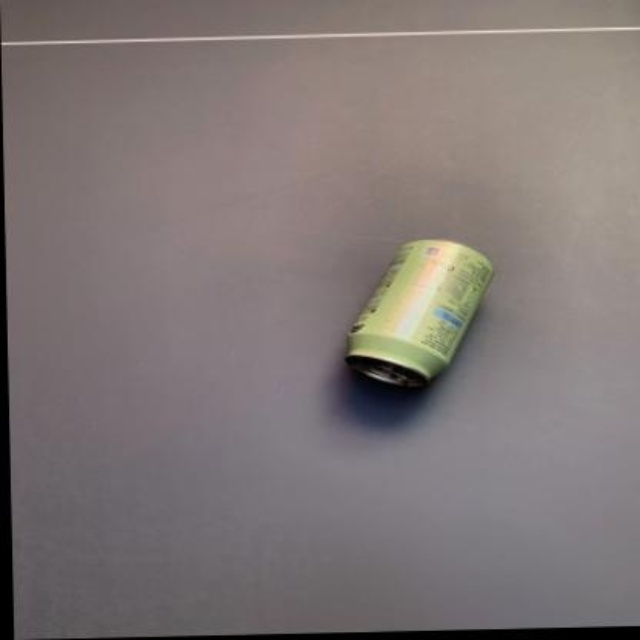trash: (345, 240, 491, 386)
